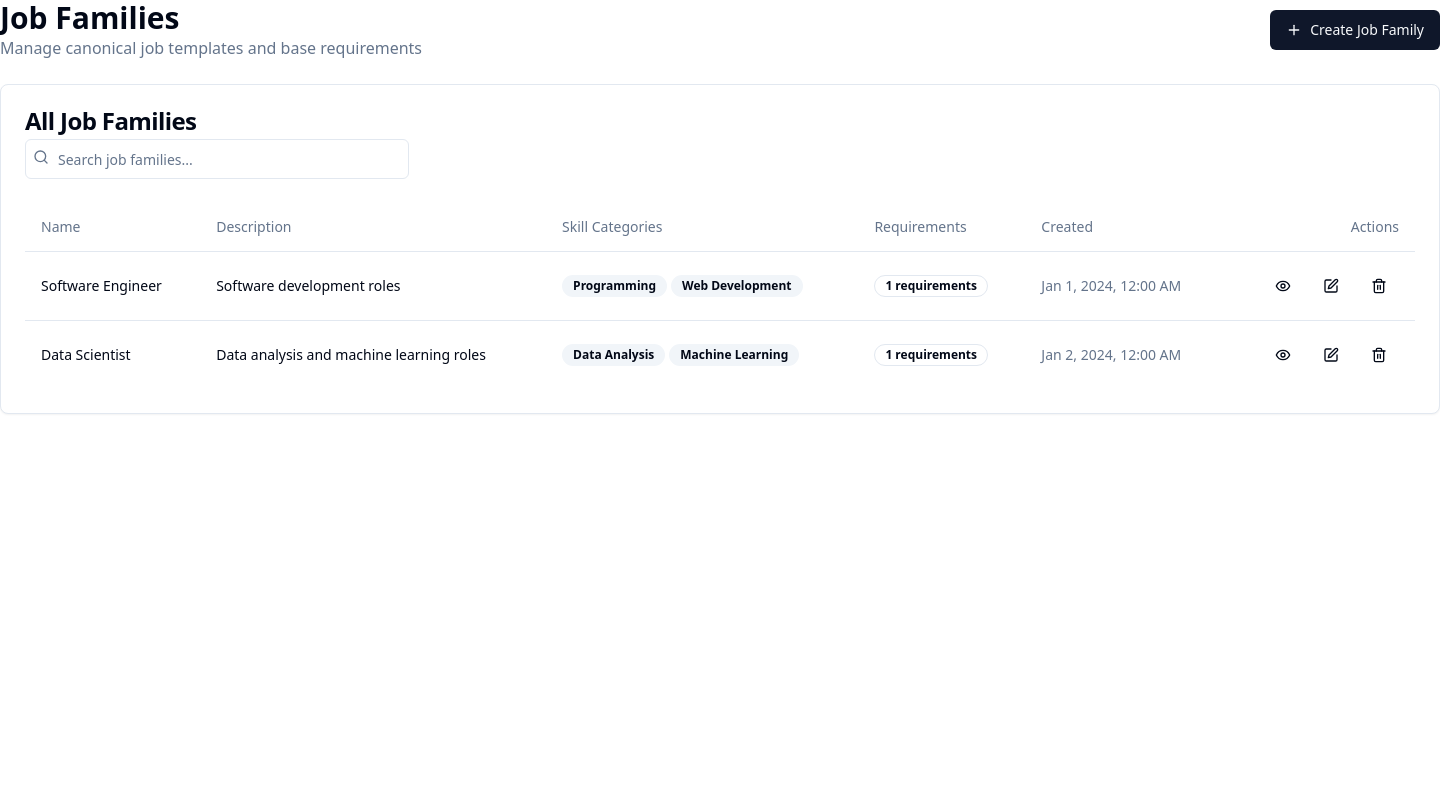
Scenario: JobFamilyList › opens create dialog when create button is clicked
Click the button "Create Job Family".
click(1355, 30)  # box [1270,10,1439,50]
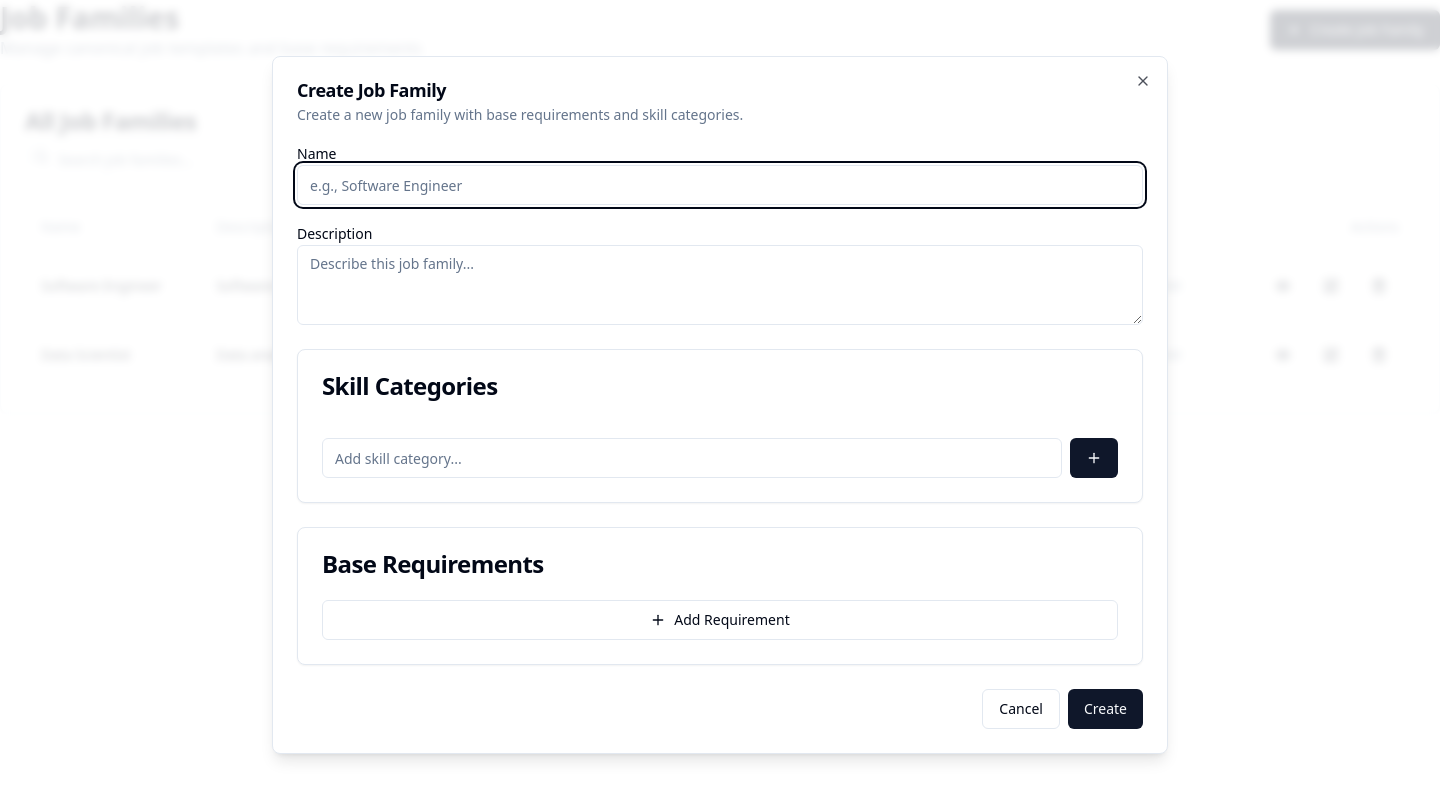
Expected: the text "Create a new job family with base requirements and skill categories." is shown, [297,105,743,124]
